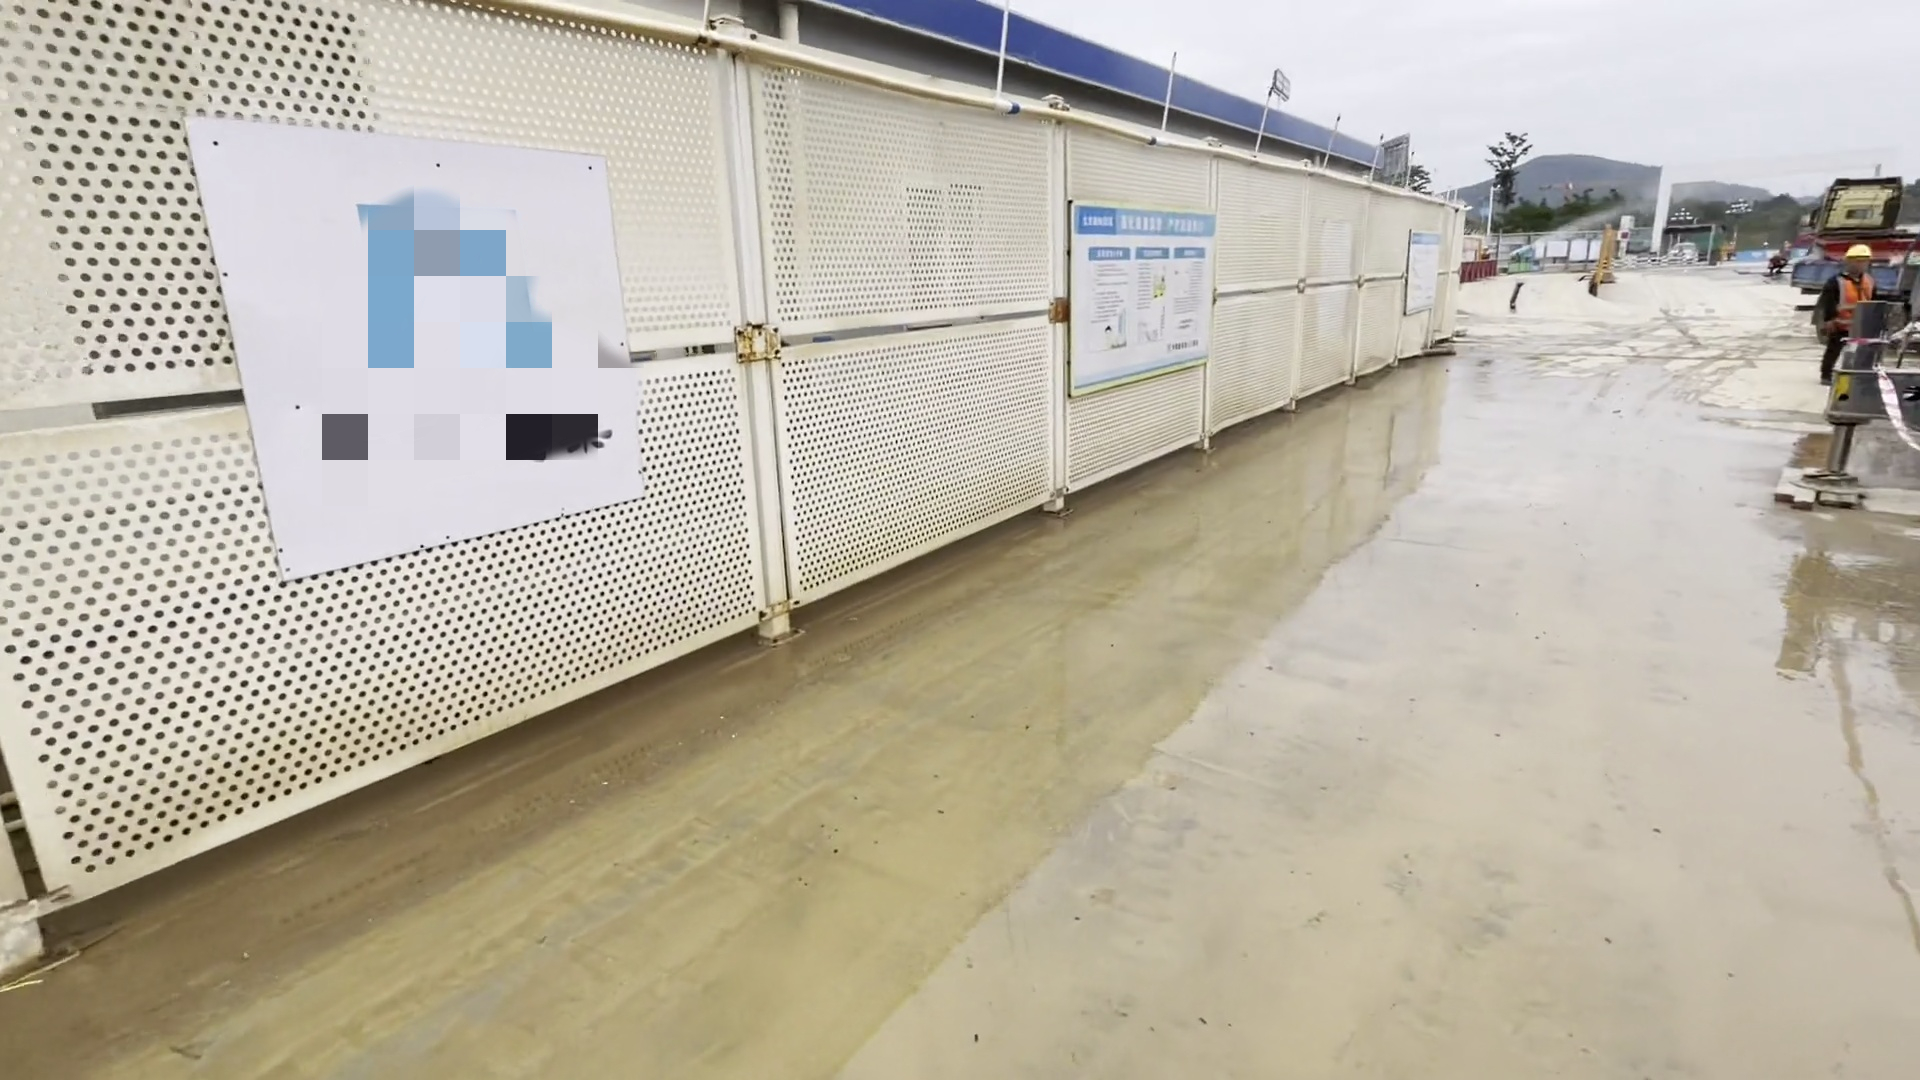slogan: (1058, 185, 1221, 401)
